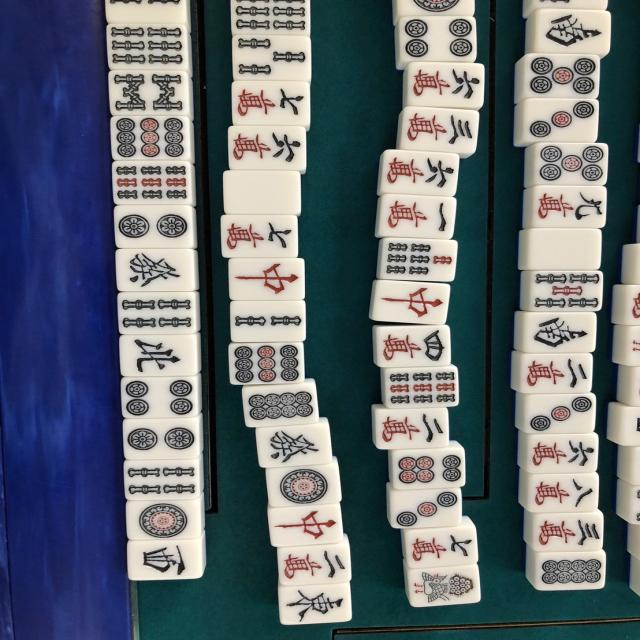bamboos_1: (412, 569, 483, 606)
bamboos_2: (229, 304, 305, 338)
bamboos_3: (228, 38, 313, 78)
bamboos_4: (115, 295, 199, 330), (126, 462, 205, 493)
bamboos_5: (526, 269, 606, 311)
bamboos_6: (105, 23, 188, 68)
bamboos_7: (382, 239, 460, 276)
bamboos_8: (107, 75, 193, 119)
bamboos_9: (385, 370, 464, 410), (112, 163, 195, 200)
characters_1: (380, 192, 458, 235)
characters_2: (505, 350, 597, 392), (363, 406, 458, 444), (277, 549, 355, 578)
characters_3: (389, 109, 481, 147), (520, 516, 604, 548)
characters_4: (368, 322, 457, 365)
characters_6: (379, 146, 463, 194), (406, 65, 502, 103), (230, 131, 320, 168), (516, 434, 602, 471)
characters_7: (403, 523, 485, 567), (229, 83, 311, 118), (223, 221, 308, 251)
characters_8: (516, 474, 602, 512)
characters_9: (513, 187, 606, 228)
circles_1: (128, 498, 208, 533), (268, 466, 346, 501)
circles_2: (119, 420, 213, 458), (118, 210, 204, 243)
circles_3: (519, 100, 604, 138), (517, 396, 598, 432), (388, 493, 466, 526)
circles_4: (397, 18, 482, 66), (114, 376, 204, 410)
circles_5: (519, 54, 606, 102), (532, 144, 614, 186)
circles_6: (396, 451, 474, 488)
circles_8: (531, 556, 610, 594), (246, 388, 324, 419)
circles_9: (111, 120, 196, 163), (232, 344, 306, 378)
east: (279, 587, 355, 621)
green: (116, 250, 200, 287), (255, 426, 337, 460)
north: (518, 312, 596, 352), (121, 338, 205, 372)
red: (376, 282, 451, 321), (232, 260, 311, 294), (268, 507, 350, 538)
south: (532, 6, 614, 56)
west: (130, 541, 209, 578)
white: (522, 225, 600, 272), (222, 173, 300, 212)
